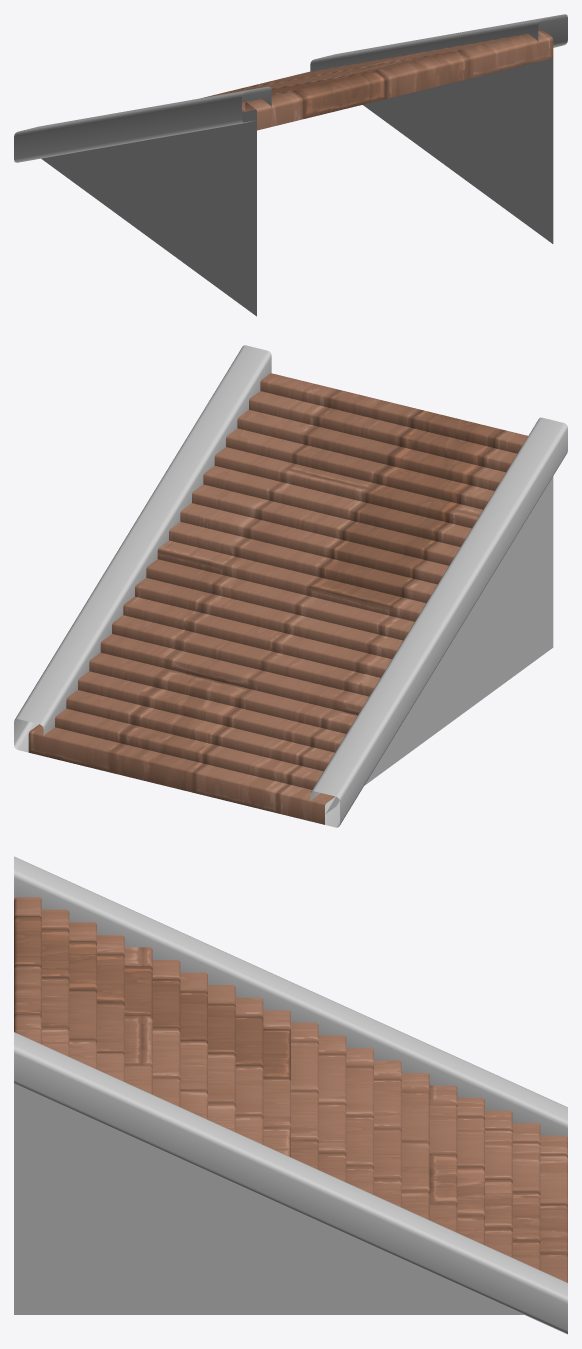
Rendered from SM_stairs_01.fbx.
3 views of the same model, one above another, from view 1: azimuth 30°, elevation 25°; view 2: azimuth 150°, elevation 25°; view 3: azimuth 270°, elevation 25° (orthographic). The views are drawn at different scales.
Visible parts, largest first — view 1: SM_stairs_01_LOD0; view 2: SM_stairs_01_LOD0; view 3: SM_stairs_01_LOD0.
Part boxes in pixels (x1,y1,x2,y2): SM_stairs_01_LOD0: [14, 14, 567, 316]; SM_stairs_01_LOD0: [14, 345, 567, 827]; SM_stairs_01_LOD0: [14, 856, 567, 1334].
Size of the model in its own units: 330 by 400 by 230.
